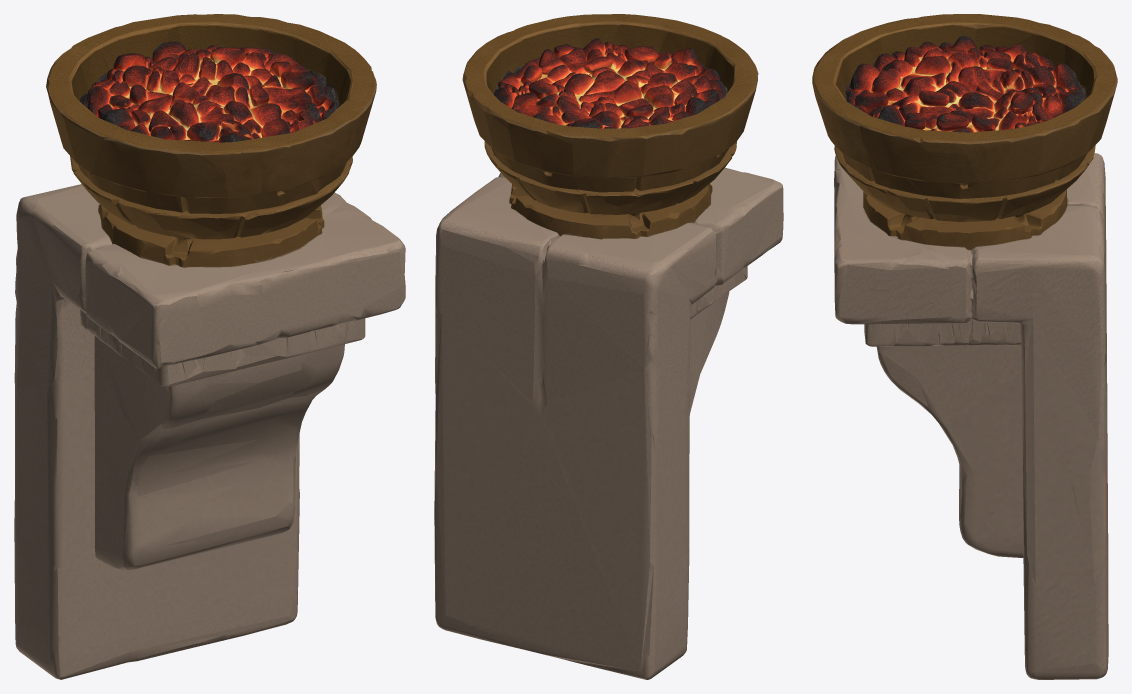
File: wall_brazier.glb
3 views of the same model, side by side, from view 1: azimuth 30°, elevation 25°; view 2: azimuth 150°, elevation 25°; view 3: azimuth 270°, elevation 25° (orthographic). The views are drawn at different scales.
Size of the model in its own units: 0.9515 by 1.9 by 0.9522.
Materials: 1 (1 with a texture image).
